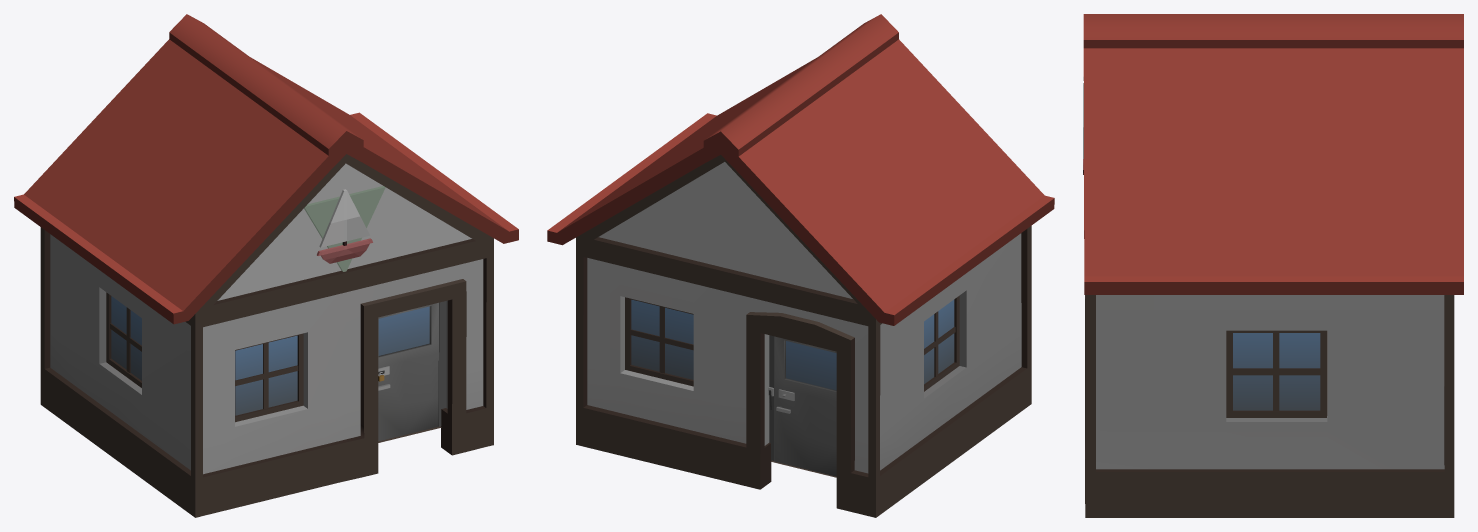
The model's file is Business_BoatHouse.glb.
The picture shows the model from 3 angles, left to right: view 1: azimuth 30°, elevation 25°; view 2: azimuth 150°, elevation 25°; view 3: azimuth 270°, elevation 25°; orthographic projection. The views are drawn at different scales.
Parts seen in each view (by area): view 1: base.060, windowRefl.041; view 2: base.060, windowRefl.041; view 3: base.060, windowRefl.041.
Part boxes in pixels (box(x1,y1,x2,y2)): base.060: box(14, 14, 518, 517); windowRefl.041: box(111, 296, 429, 415); base.060: box(547, 14, 1054, 517); windowRefl.041: box(631, 299, 954, 390); base.060: box(1083, 14, 1463, 517); windowRefl.041: box(1233, 333, 1320, 410).
Bounding box in the file's own units: 8.8 × 8.54 × 7.06.
